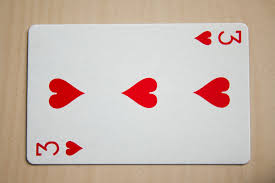three of hearts: (26, 22, 252, 163)
